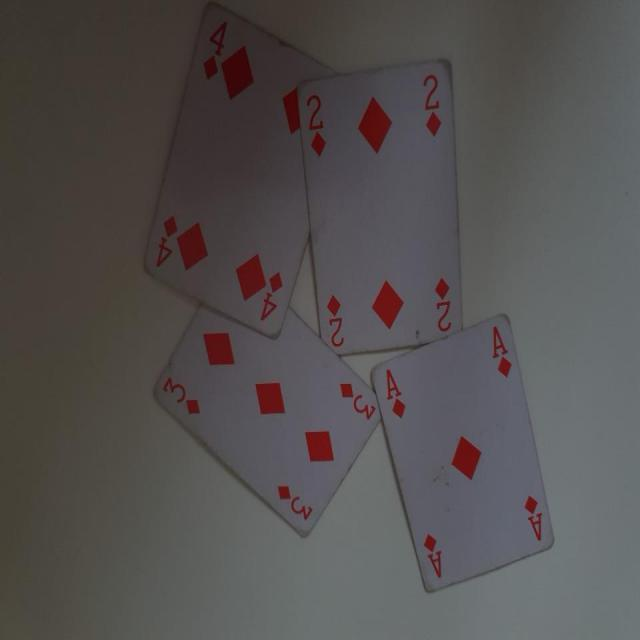2 of diamonds: (293, 59, 465, 358)
3 of diamonds: (153, 303, 386, 538)
4 of diamonds: (142, 0, 320, 339)
ace of diamonds: (368, 306, 564, 600)
